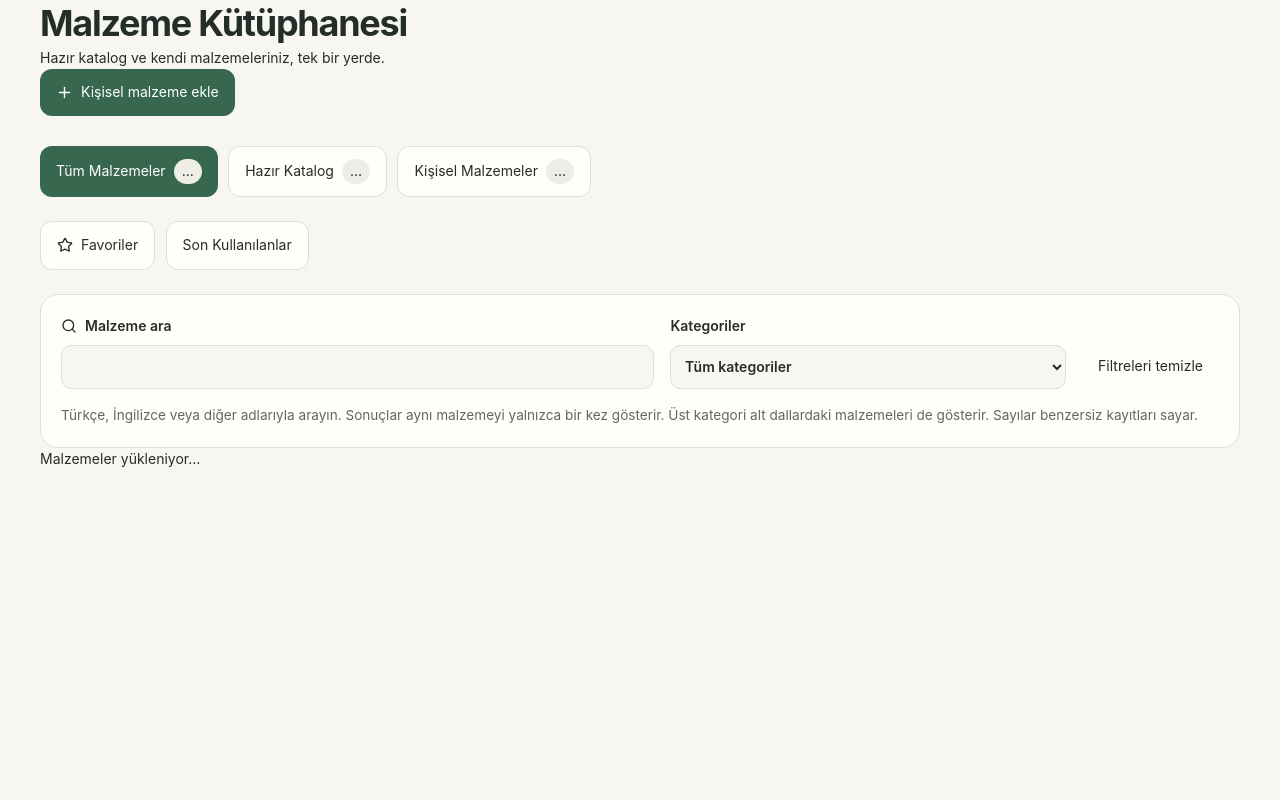
unmount cancels an open personal creation leave decision
This screenshot has width=1280, height=800.
Click the button "Kişisel malzeme ekle" at (137, 92), box [40,69,235,116]
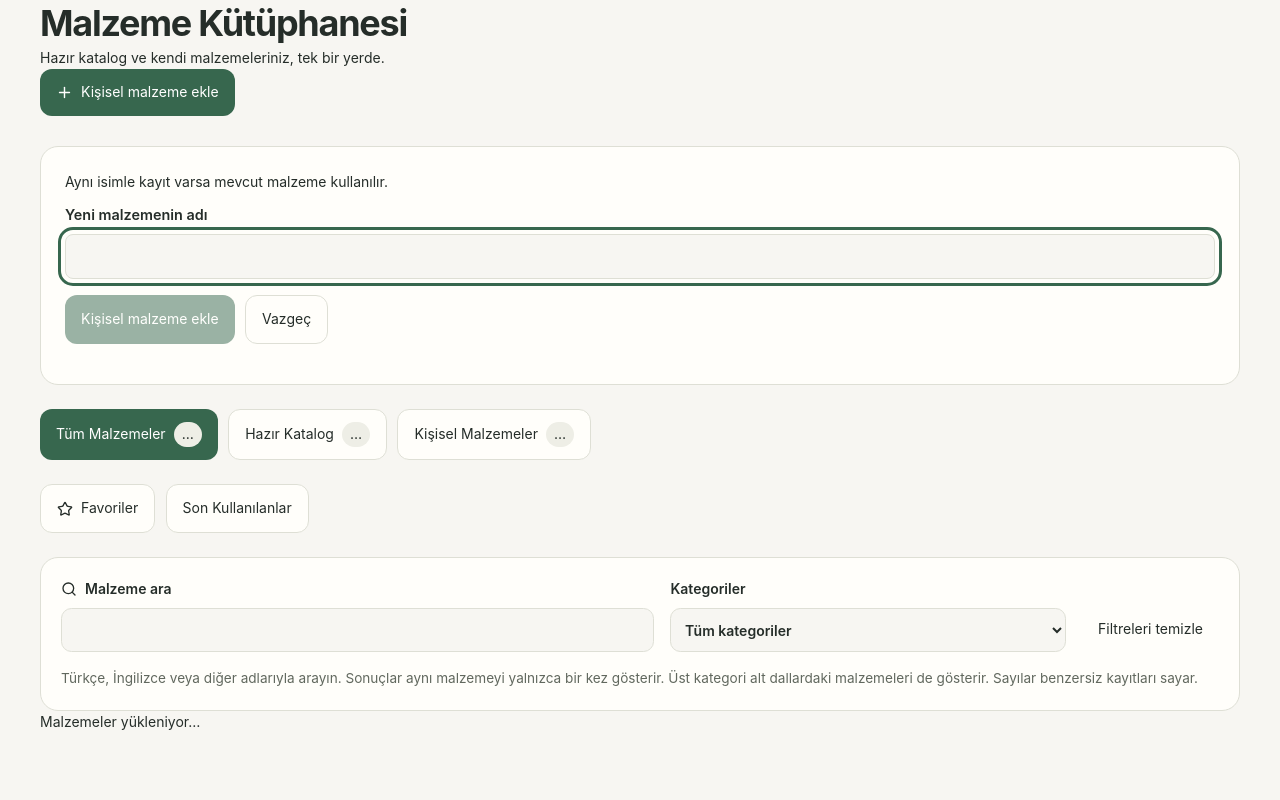
Type "Yeni baharat" into the field labelled "Yeni malzemenin adı" at (640, 256), box [65,234,1215,279]
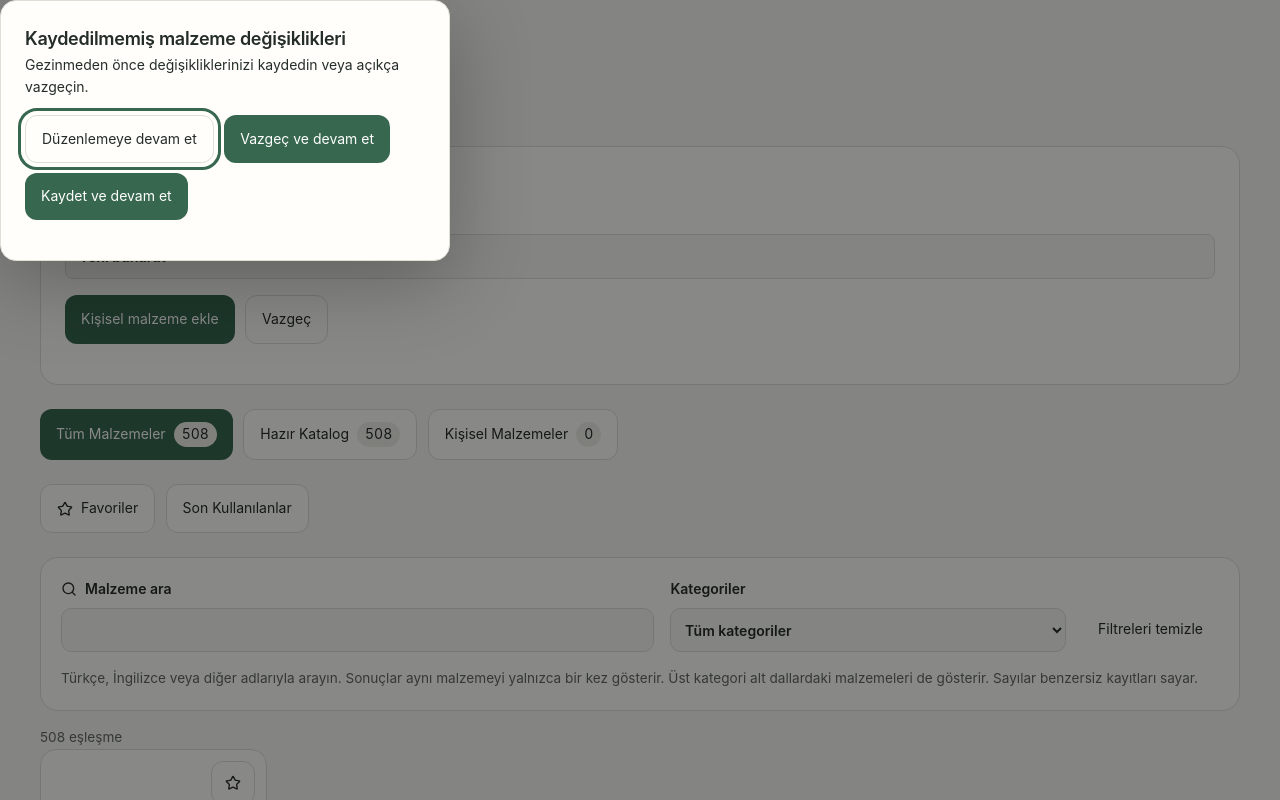
Now the dialog is shown, box [0,0,450,261]
